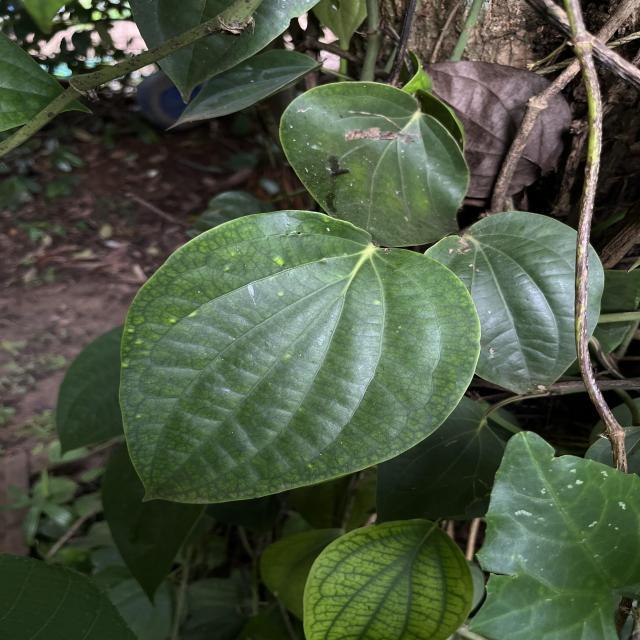Piper nigrum: (110, 203, 486, 506)
